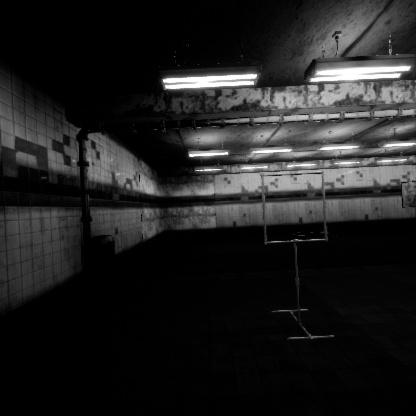gate: (261, 171, 333, 245)
